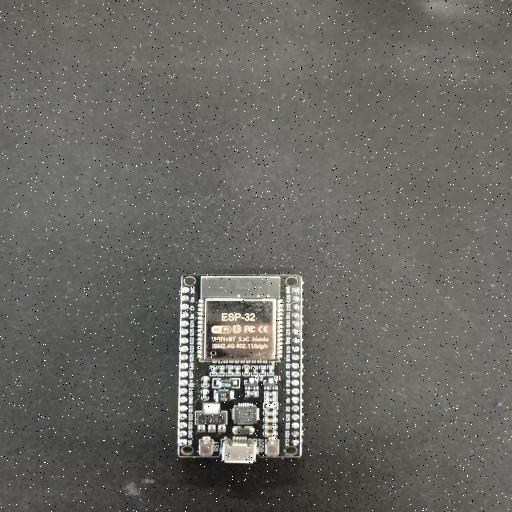esp32-dev: (178, 275, 302, 463)
